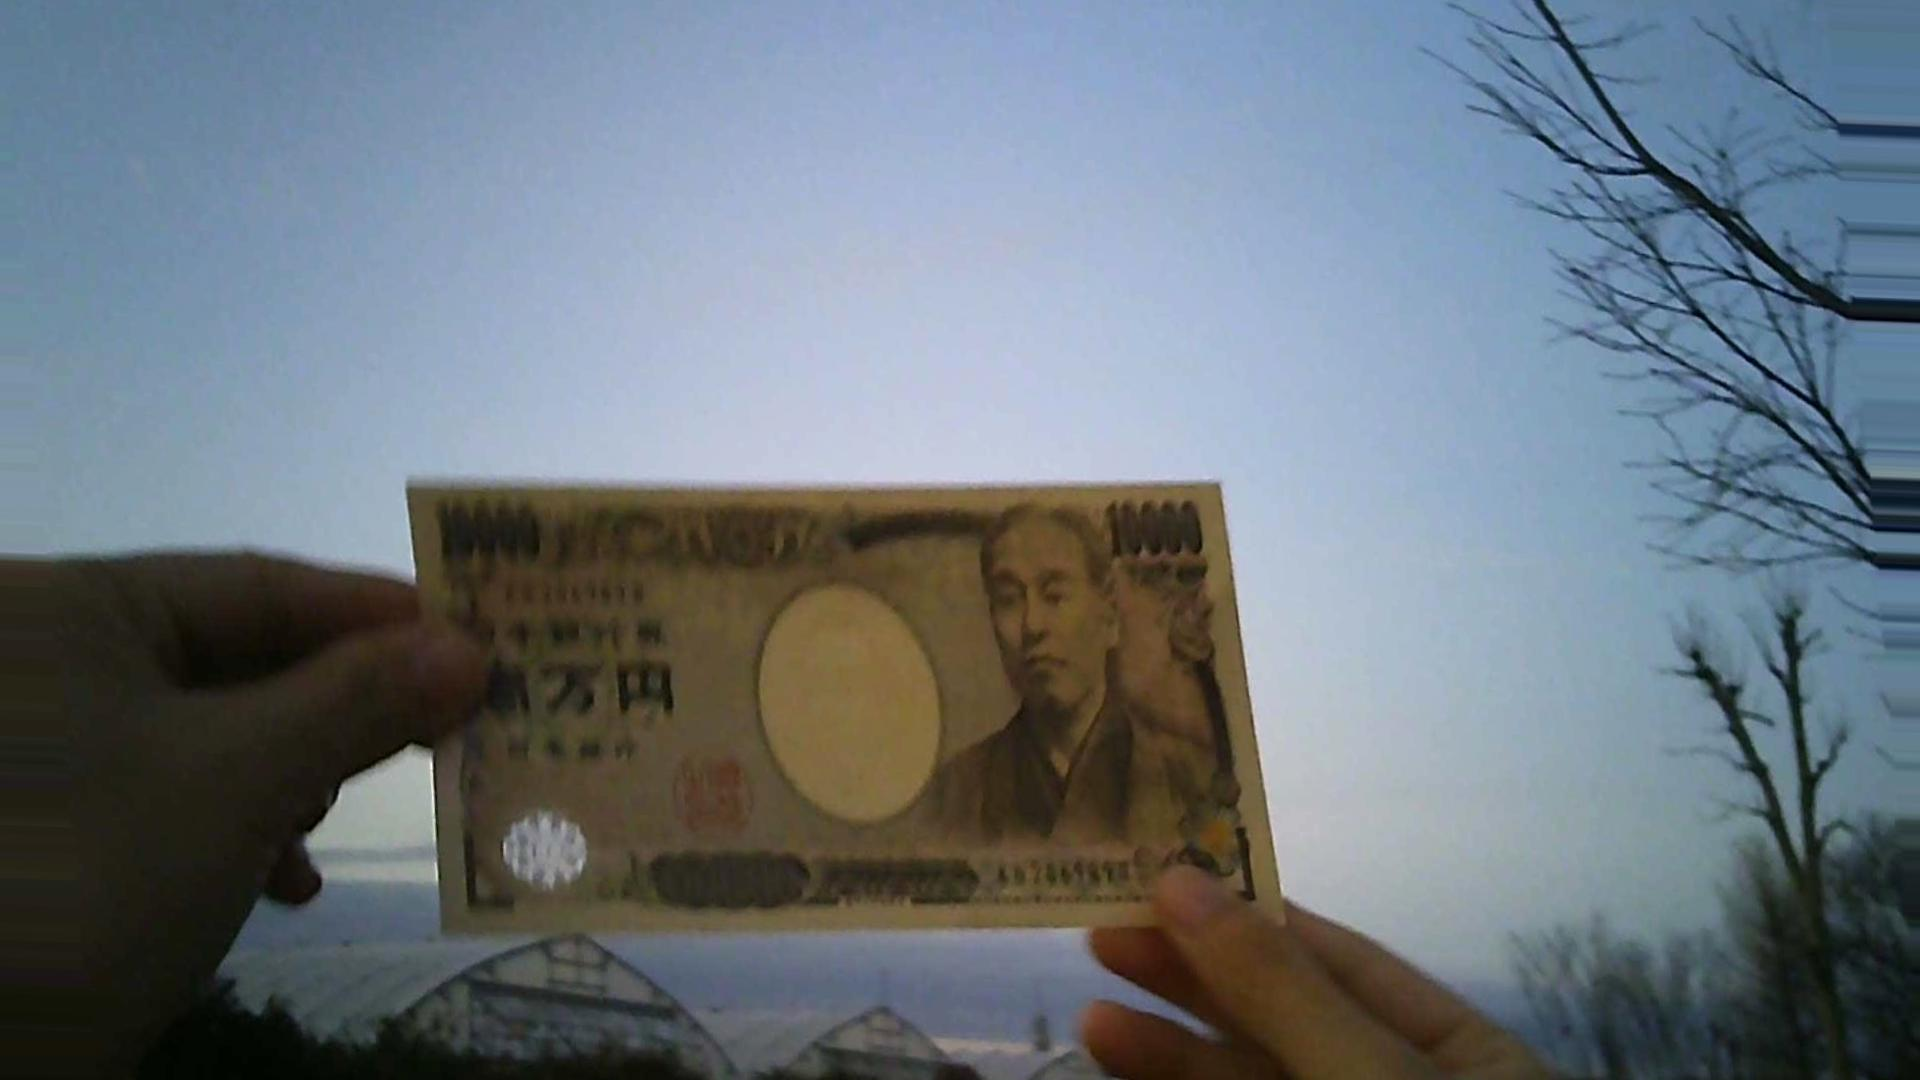10,000 Yen: (393, 473, 1308, 942)
